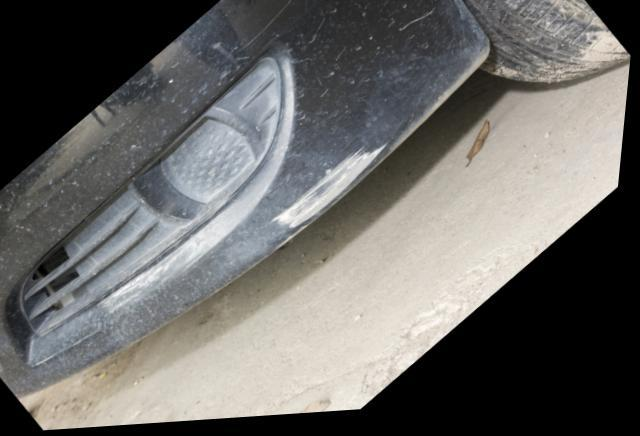scratch: (273, 143, 397, 240)
